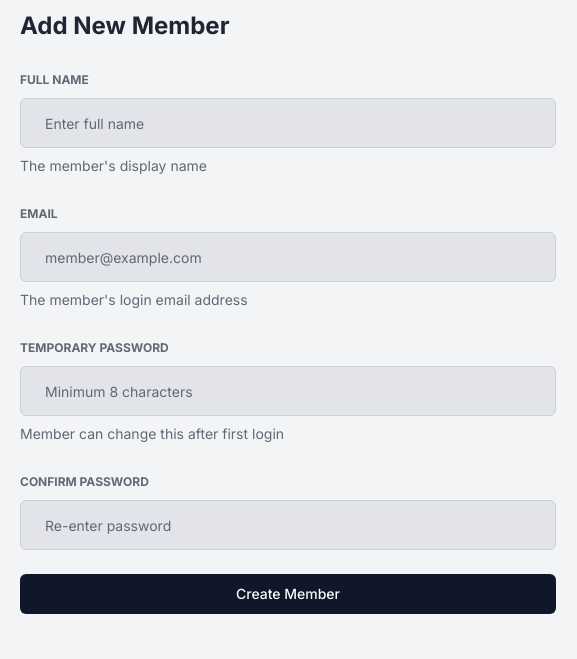
Test: AddMemberForm › validates that passwords match before submission
This screenshot has width=577, height=659.
Type "Jane Smith" into the field labelled "Full Name". click: (288, 123)
box: [20,98,556,148]
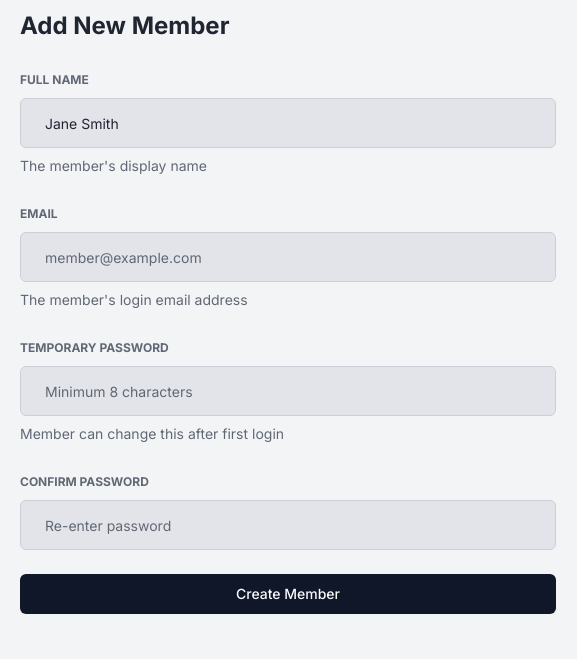
Type "jane@example.com" into the field labelled "Email". click: (288, 257)
box: [20,232,556,282]
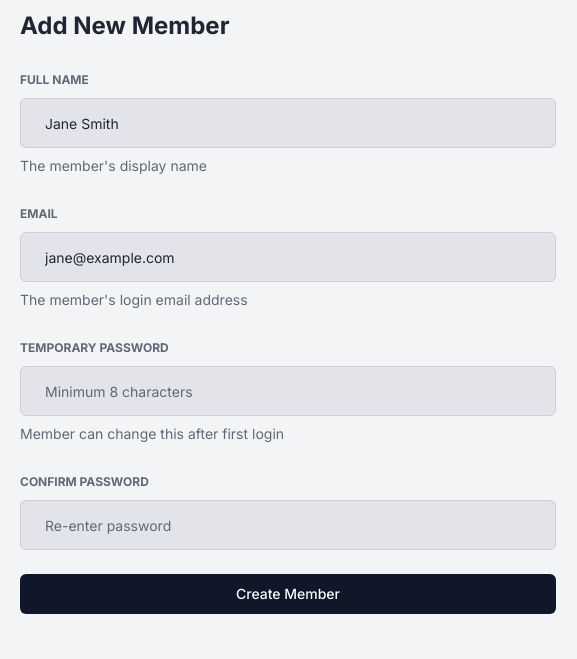
Type "password123" into the password field labelled "Temporary Password". click: (288, 391)
box: [20,366,556,416]
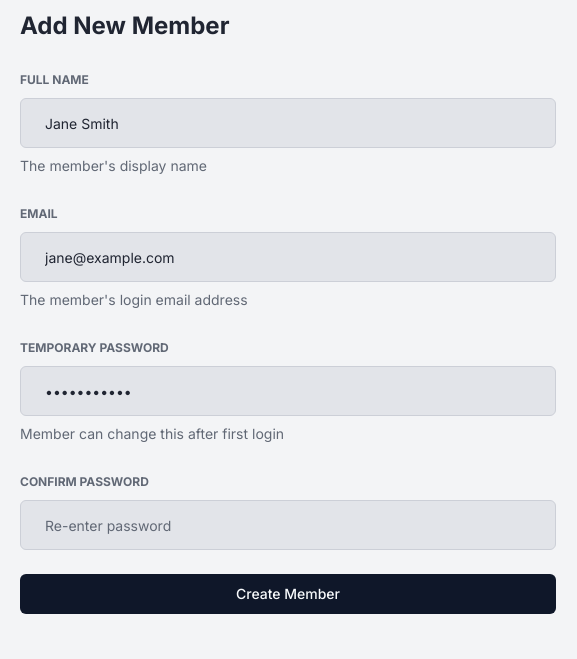
Type "different" into the password field labelled "Confirm Password". click: (288, 525)
box: [20,500,556,550]
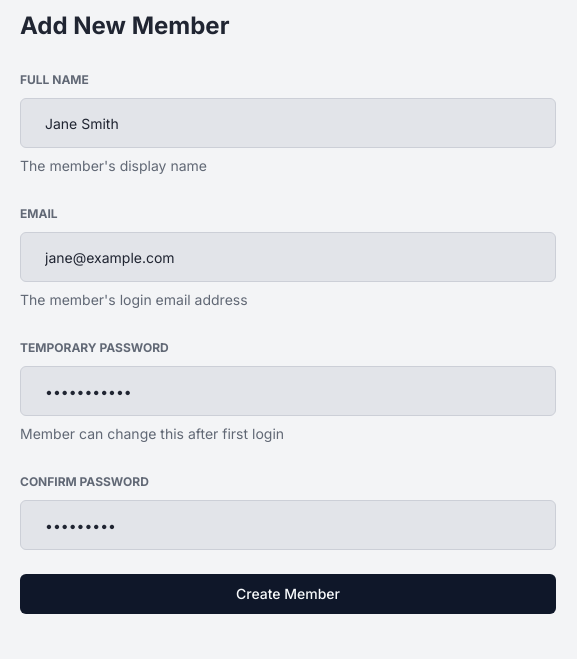
Click the button "Create Member". click: (288, 594)
box: [20,574,556,614]
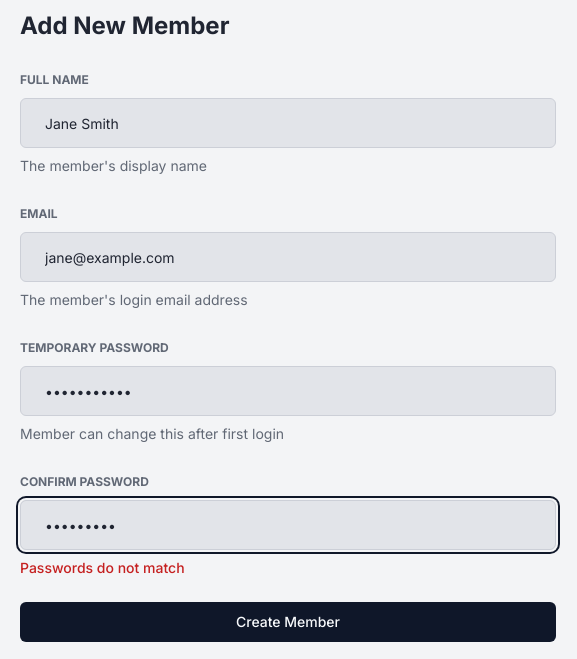
Expected: the text "Passwords do not match" is shown, [20,559,185,576]
